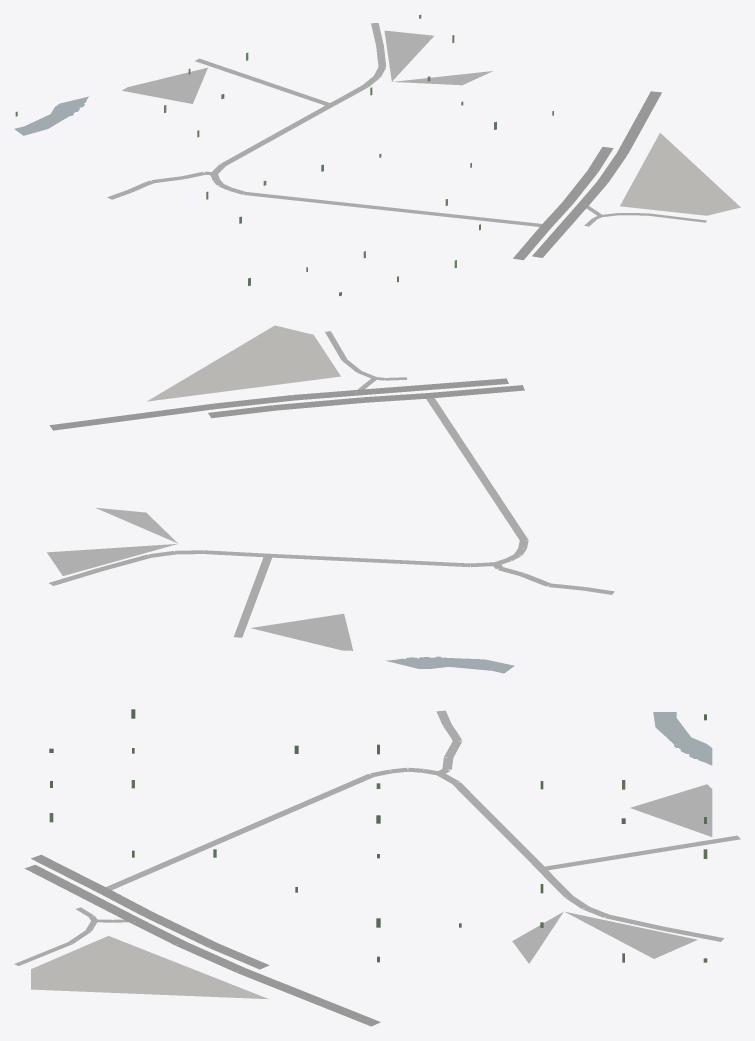
3 renders of one model, top to bottom at view 1: azimuth 30°, elevation 25°; view 2: azimuth 150°, elevation 25°; view 3: azimuth 270°, elevation 25°, orthographic. The views are drawn at different scales.
Bounding box in the file's own units: 546 × 9.7 × 534.
